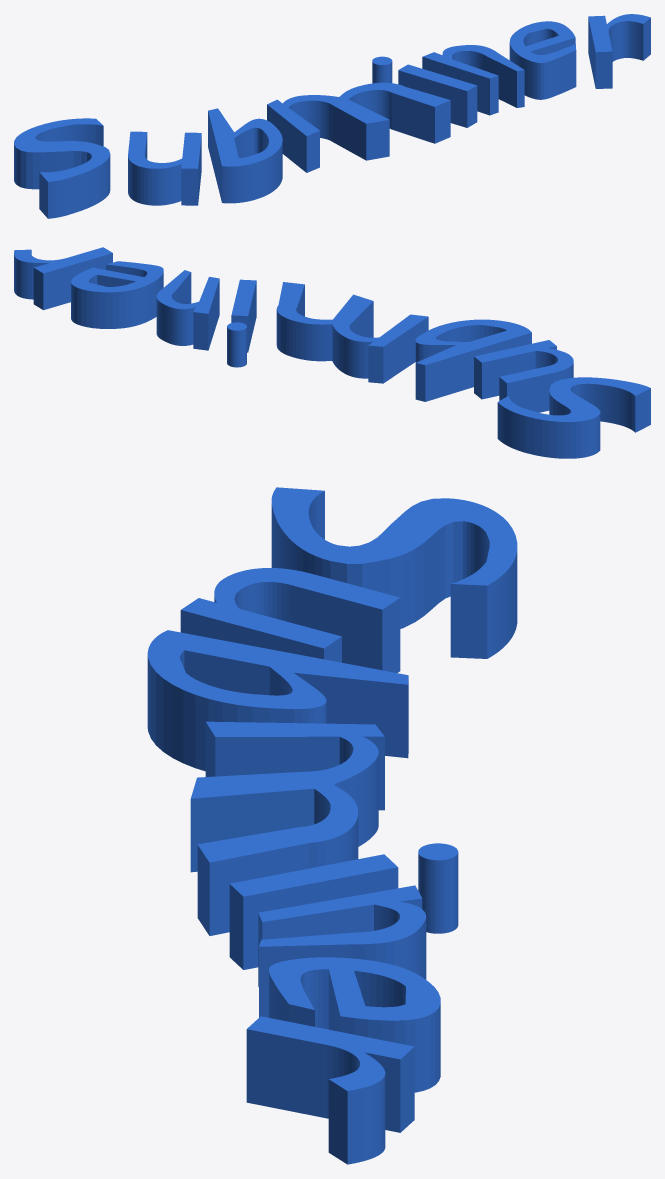
Rendered from Title.fbx.
3 views of the same model, one above another, from view 1: azimuth 30°, elevation 25°; view 2: azimuth 150°, elevation 25°; view 3: azimuth 270°, elevation 25° (orthographic). The views are drawn at different scales.
Visible parts, largest first — view 1: Title; view 2: Title; view 3: Title.
Boxes of the visible parts, x1=… form: Title: x1=14, y1=14, x2=650, y2=218; Title: x1=14, y1=247, x2=650, y2=458; Title: x1=147, y1=487, x2=517, y2=1164.
Size of the model in its own units: 679 by 38.56 by 176.
